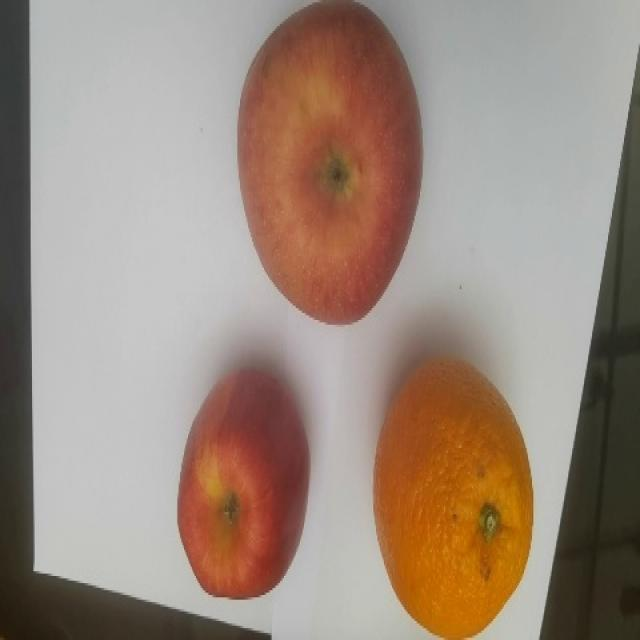Apple: (236, 0, 423, 325), (176, 368, 310, 599)
Orange: (372, 356, 534, 638)
